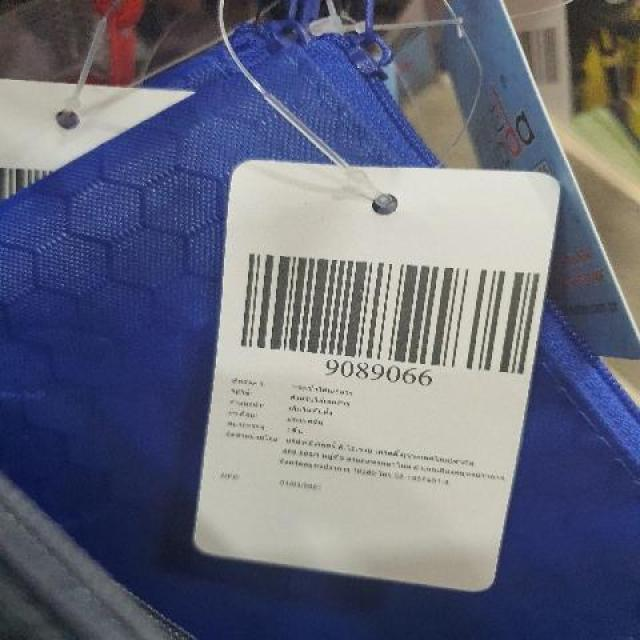Barcode: (225, 243, 552, 394)
